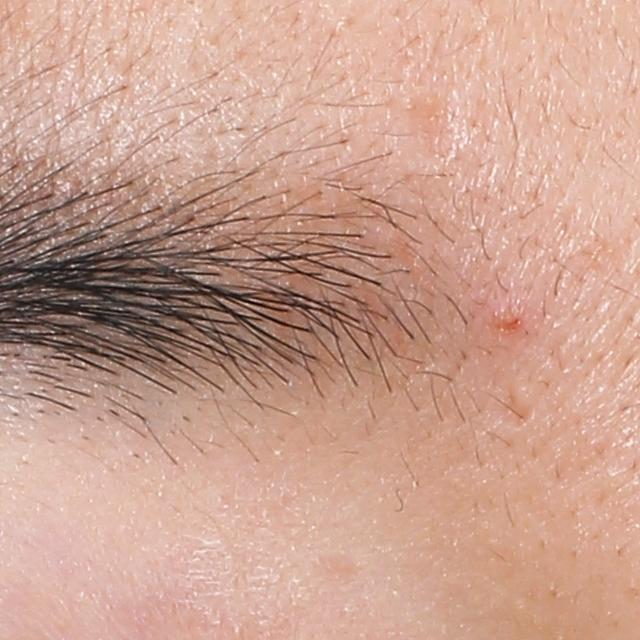atrophic_scar: (391, 77, 463, 174), (499, 387, 534, 433)
papule: (491, 305, 526, 340)
